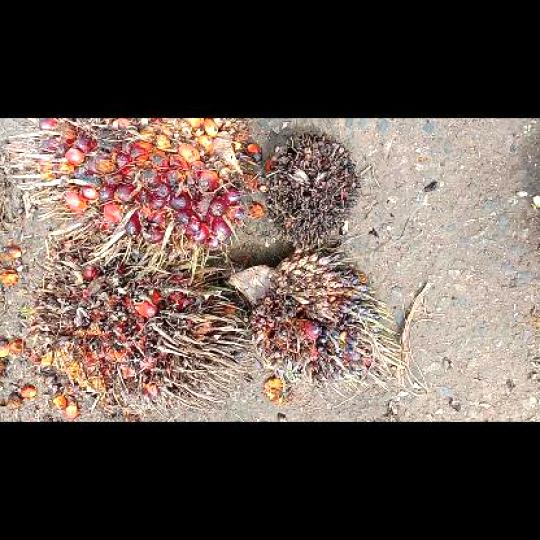masak: (16, 118, 262, 248)
terlalu masak: (23, 225, 247, 408)
